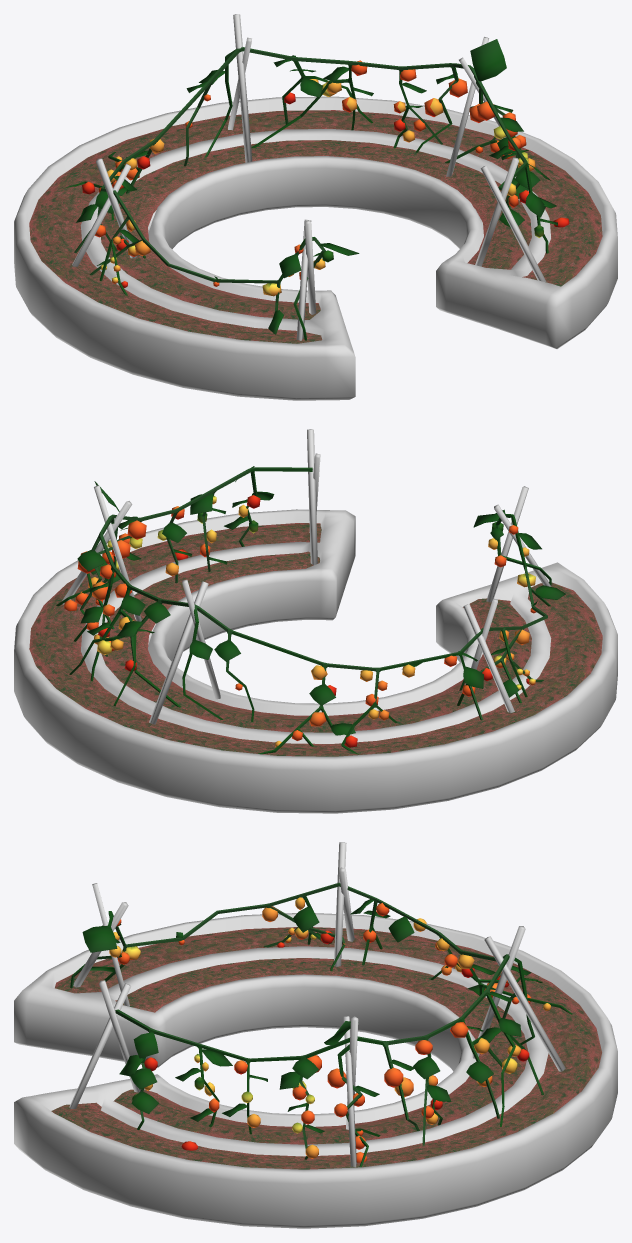
Rendered from garden.glb.
3 renders of one model, top to bottom at view 1: azimuth 30°, elevation 25°; view 2: azimuth 150°, elevation 25°; view 3: azimuth 270°, elevation 25°, orthographic. The views are drawn at different scales.
Visible parts, largest first — view 1: garden-col, garden-tomatos; view 2: garden-col, garden-tomatos; view 3: garden-col, garden-tomatos.
Boxes of the visible parts, left/top/right/bottom form: garden-col: left=14, top=14, right=617, bottom=400; garden-tomatos: left=63, top=39, right=569, bottom=340; garden-col: left=14, top=429, right=617, bottom=813; garden-tomatos: left=56, top=466, right=565, bottom=754; garden-col: left=14, top=842, right=617, bottom=1228; garden-tomatos: left=70, top=882, right=572, bottom=1167.
Size of the model in its own units: 8 by 2.59 by 7.7.
Materials: 2 (2 with a texture image).
